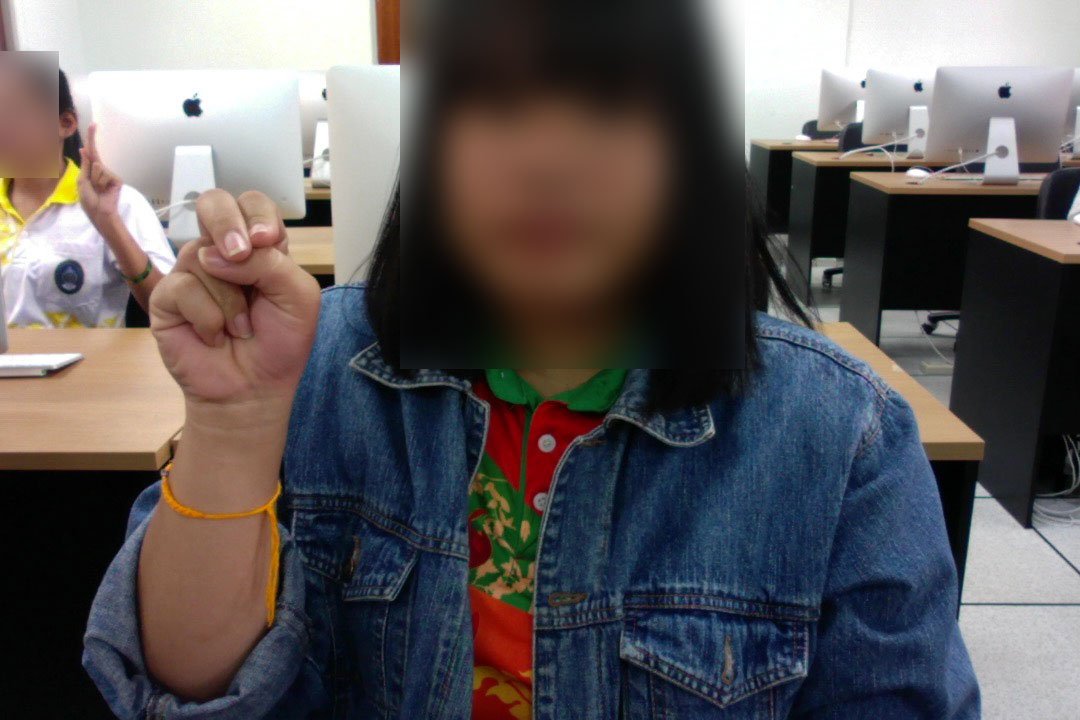nor: (143, 181, 331, 430)
